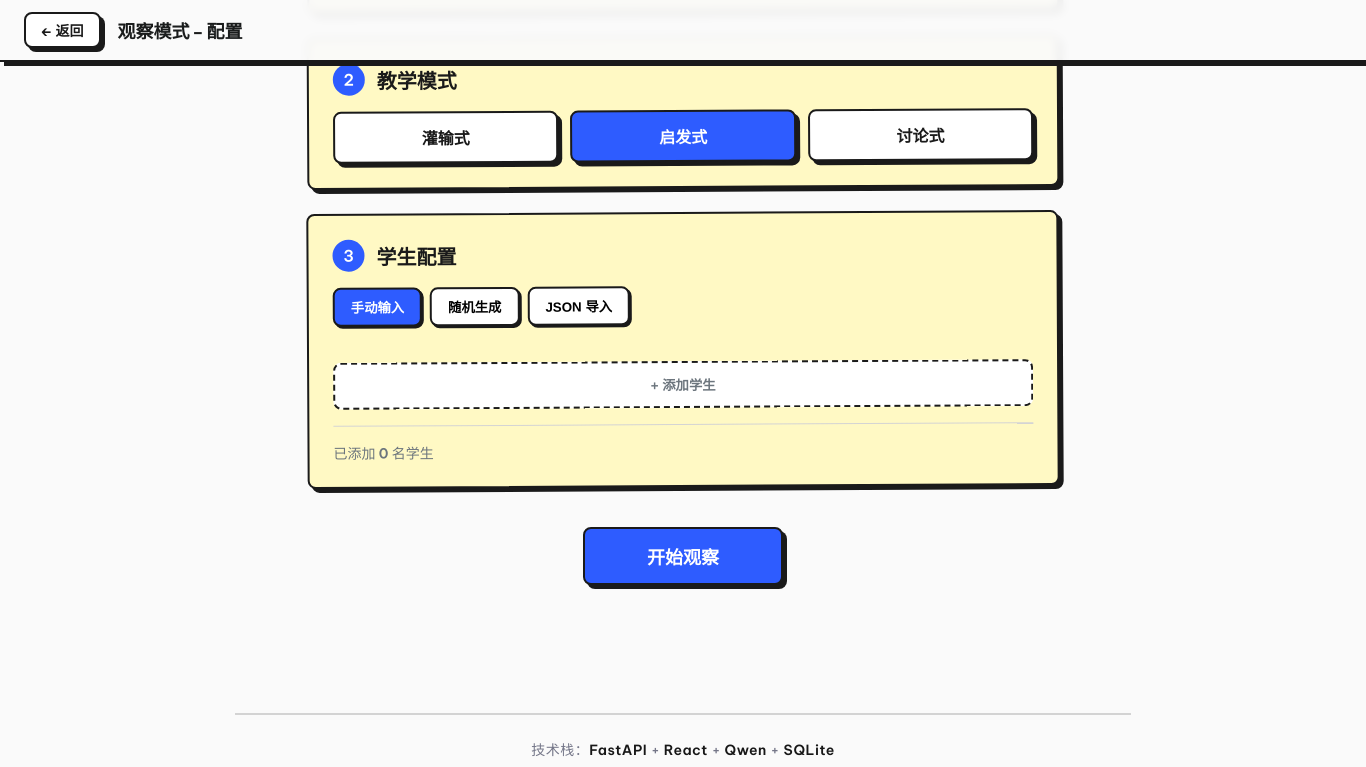
it: ObservationConfig › Manual student creation › removes a student when clicking delete button
The image size is (1366, 767).
(page scrolled)
Click the button "+ 添加学生". click: click(683, 385)
box: x1=333 y1=359 x2=1033 y2=410
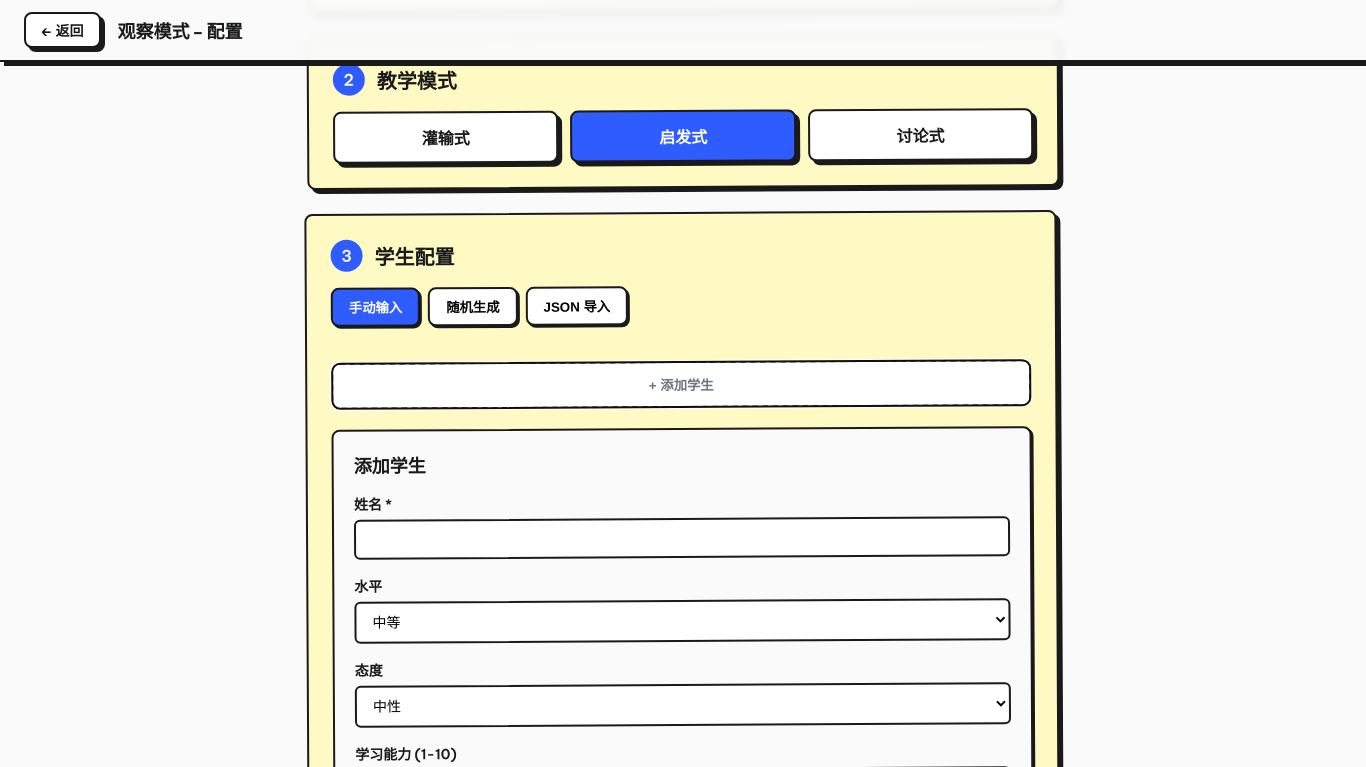
Type "张三" into the field labelled "姓名 *". click: (682, 538)
box: x1=354 y1=516 x2=1010 y2=560
(page scrolled)
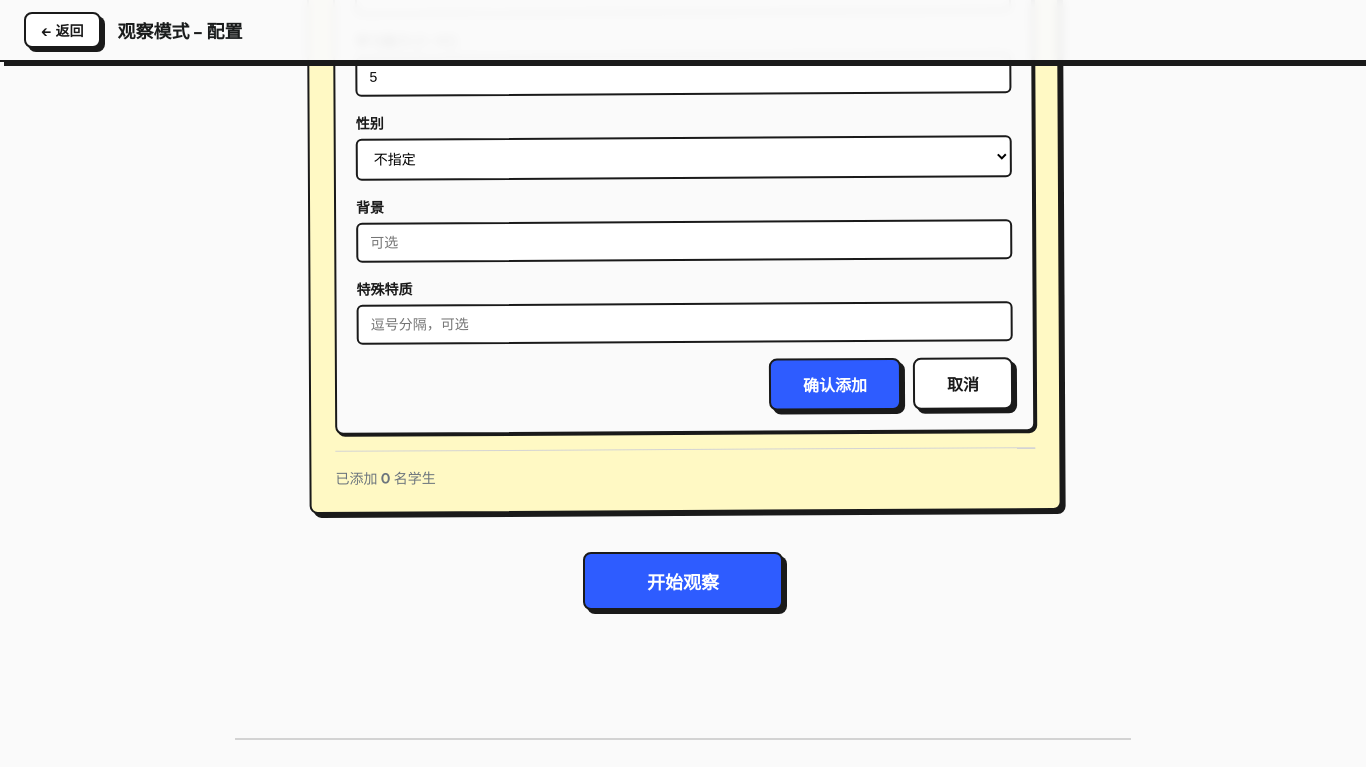
Click the button "确认添加". click: click(835, 384)
box: x1=769 y1=358 x2=901 y2=411
(page scrolled)
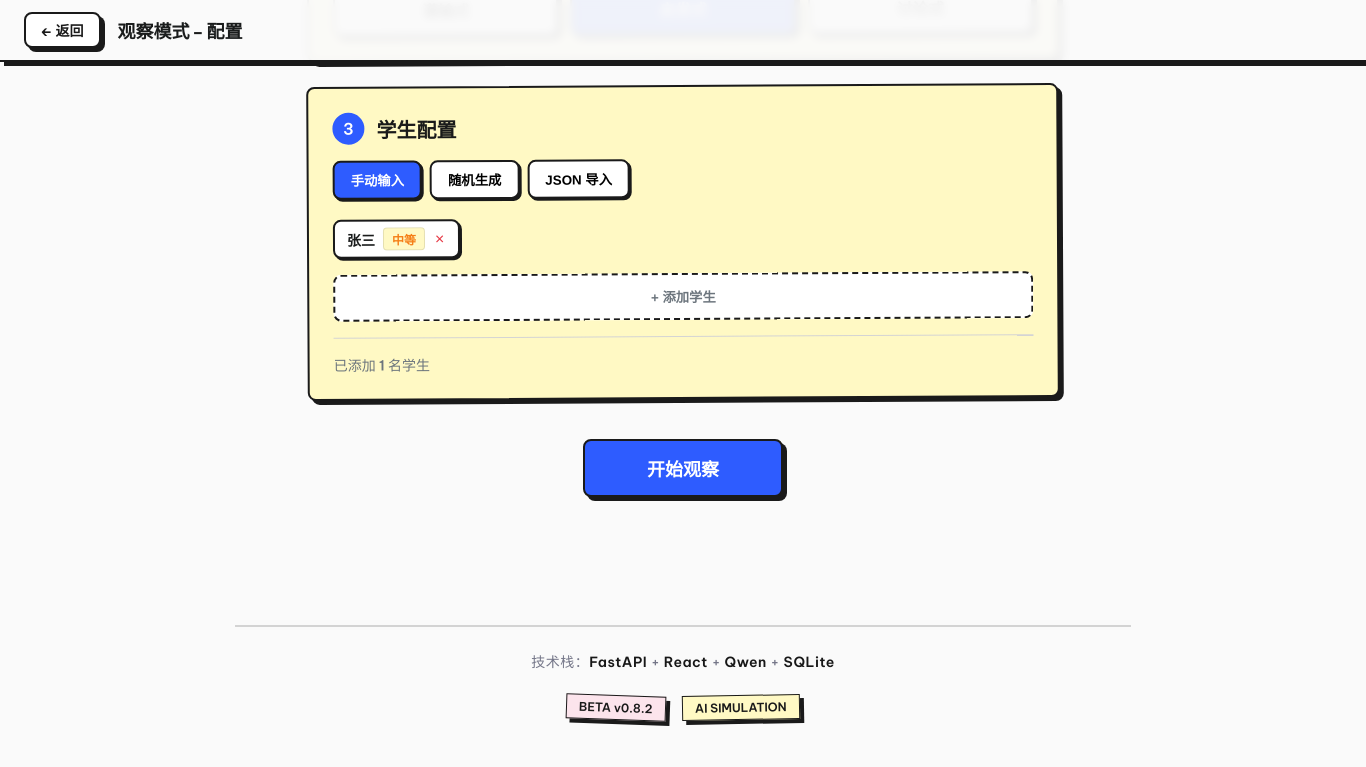
Expected: the text "张三" is shown, x1=347 y1=229 x2=375 y2=249
Click the button named "删除 张三". click: click(440, 239)
box: x1=433 y1=231 x2=446 y2=247
(page scrolled)
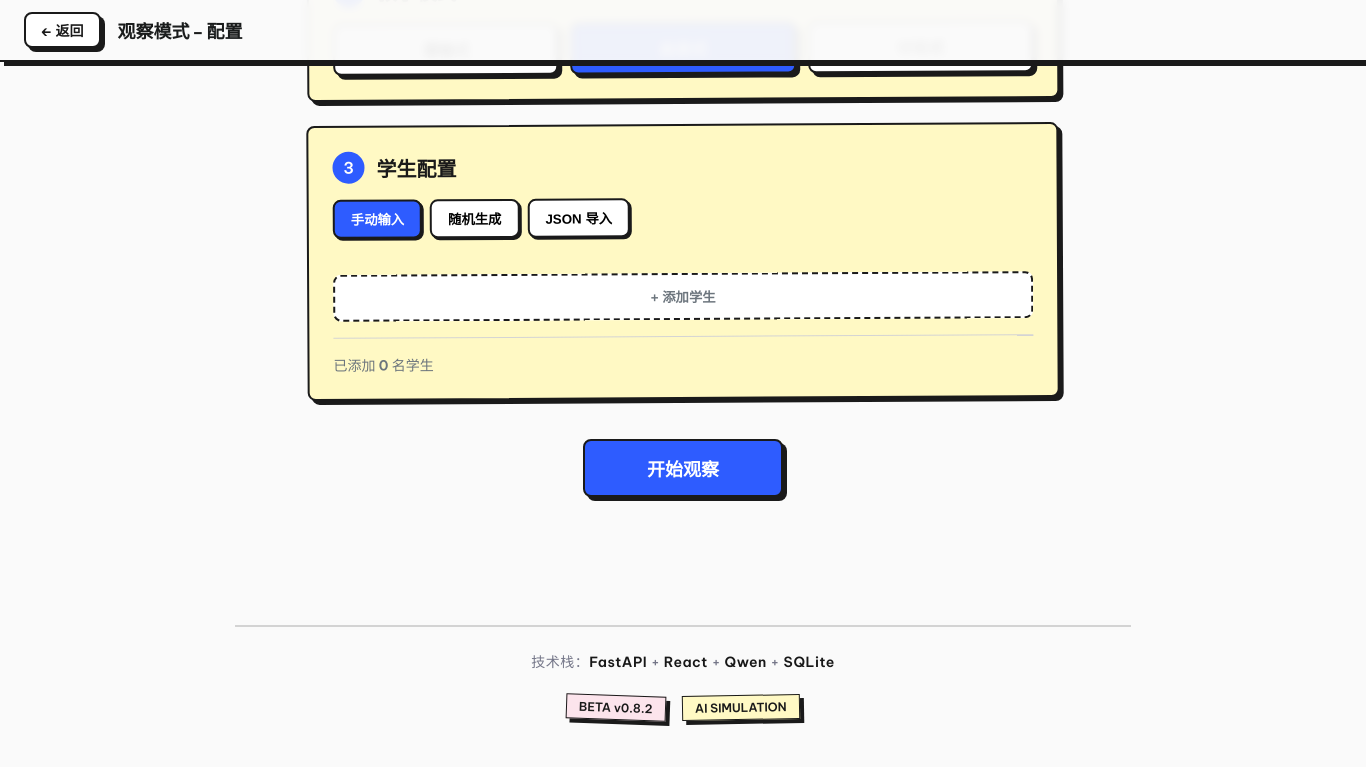
Expected: the text "张三" is gone
